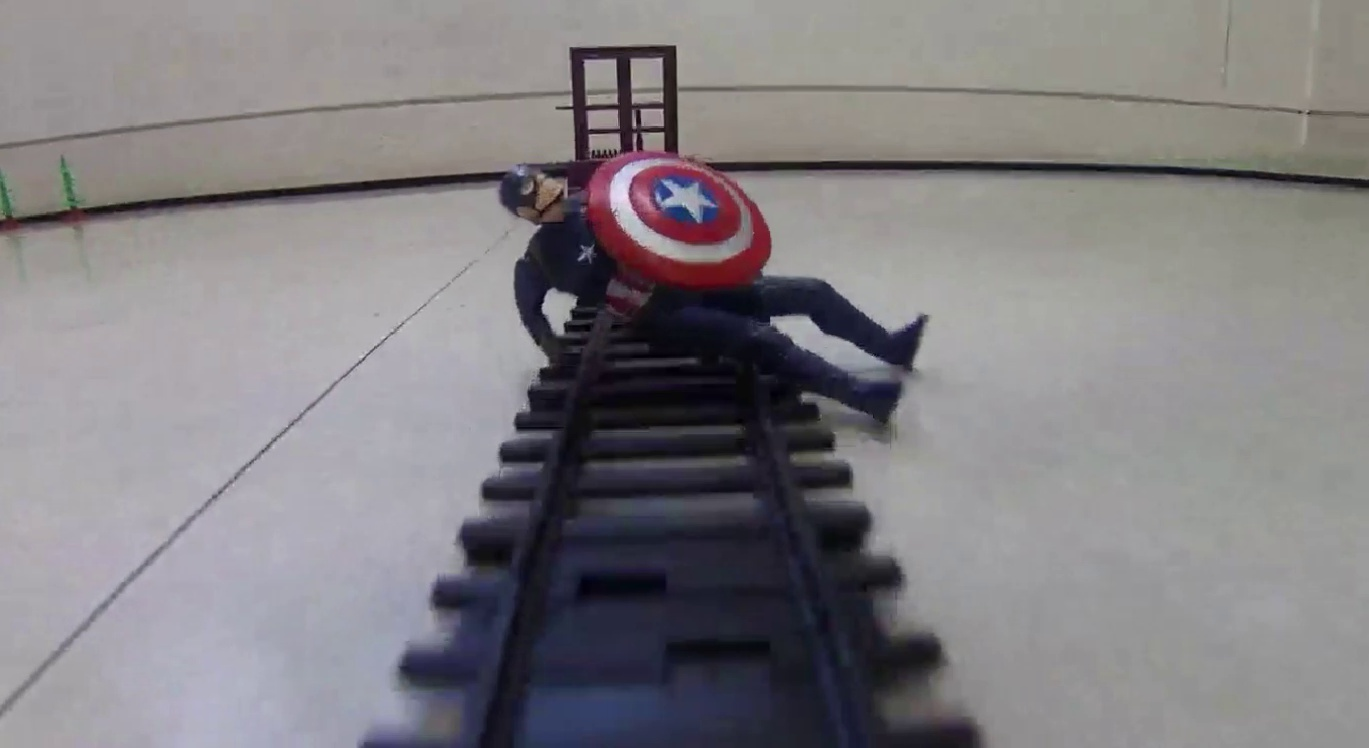people: (501, 148, 932, 430)
